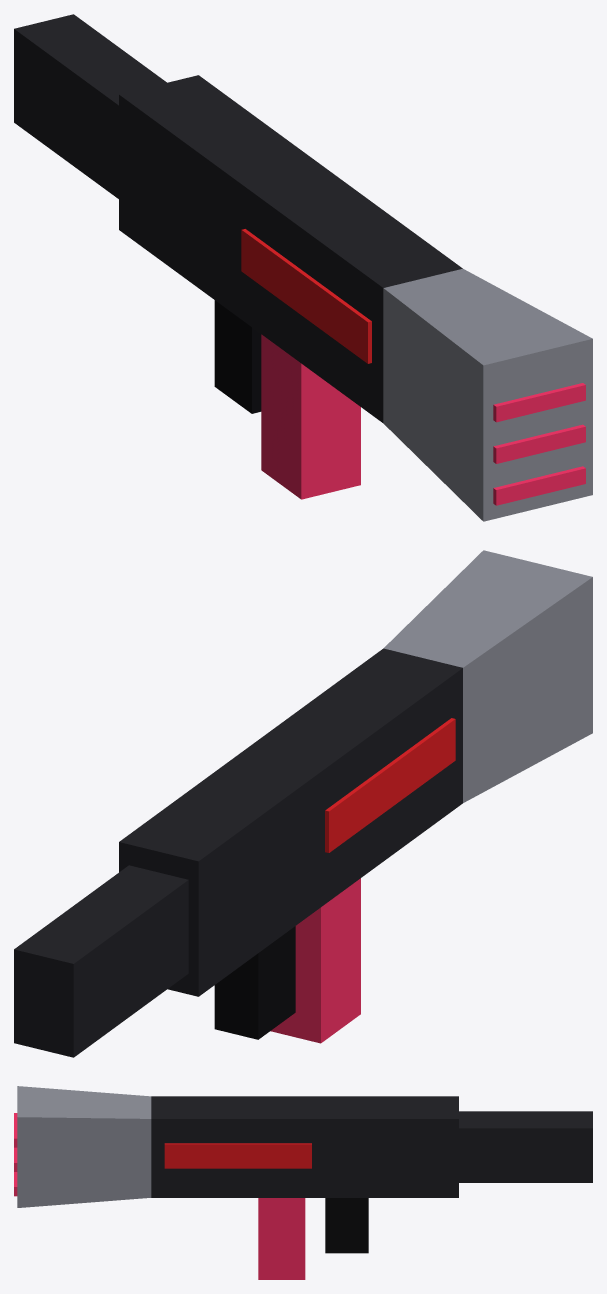
Rendered from weapon_F2_ScatterGun.obj.
3 views of the same model, one above another, from view 1: azimuth 30°, elevation 25°; view 2: azimuth 150°, elevation 25°; view 3: azimuth 270°, elevation 25° (orthographic). The views are drawn at different scales.
Parts seen in each view (by area): view 1: F2_ScatterGun_WBody, F2_ScatterGun_WPanel, F2_ScatterGun_Cell, F2_ScatterGun_WAccent, F2_ScatterGun_Energy, F2_ScatterGun_WDark; view 2: F2_ScatterGun_WBody, F2_ScatterGun_WPanel, F2_ScatterGun_Cell, F2_ScatterGun_WDark, F2_ScatterGun_WAccent; view 3: F2_ScatterGun_WBody, F2_ScatterGun_WPanel, F2_ScatterGun_Cell, F2_ScatterGun_WAccent, F2_ScatterGun_WDark, F2_ScatterGun_Energy.
Boxes of the visible parts, x1=… form: F2_ScatterGun_WBody: x1=14, y1=14, x2=462, y2=422; F2_ScatterGun_WPanel: x1=383, y1=268, x2=592, y2=521; F2_ScatterGun_Cell: x1=261, y1=334, x2=360, y2=499; F2_ScatterGun_WAccent: x1=241, y1=229, x2=371, y2=363; F2_ScatterGun_Energy: x1=493, y1=383, x2=585, y2=505; F2_ScatterGun_WDark: x1=214, y1=300, x2=261, y2=413; F2_ScatterGun_WBody: x1=14, y1=648, x2=462, y2=1057; F2_ScatterGun_WPanel: x1=383, y1=550, x2=592, y2=802; F2_ScatterGun_Cell: x1=270, y1=878, x2=360, y2=1043; F2_ScatterGun_WDark: x1=214, y1=926, x2=295, y2=1039; F2_ScatterGun_WAccent: x1=325, y1=718, x2=455, y2=852; F2_ScatterGun_WBody: x1=151, y1=1096, x2=592, y2=1197; F2_ScatterGun_WPanel: x1=17, y1=1086, x2=151, y2=1207; F2_ScatterGun_Cell: x1=258, y1=1198, x2=305, y2=1279; F2_ScatterGun_WAccent: x1=164, y1=1143, x2=311, y2=1168; F2_ScatterGun_WDark: x1=325, y1=1198, x2=368, y2=1253; F2_ScatterGun_Energy: x1=14, y1=1113, x2=17, y2=1196.
Size of the model in its own units: 0.11 by 0.28 by 0.865.
